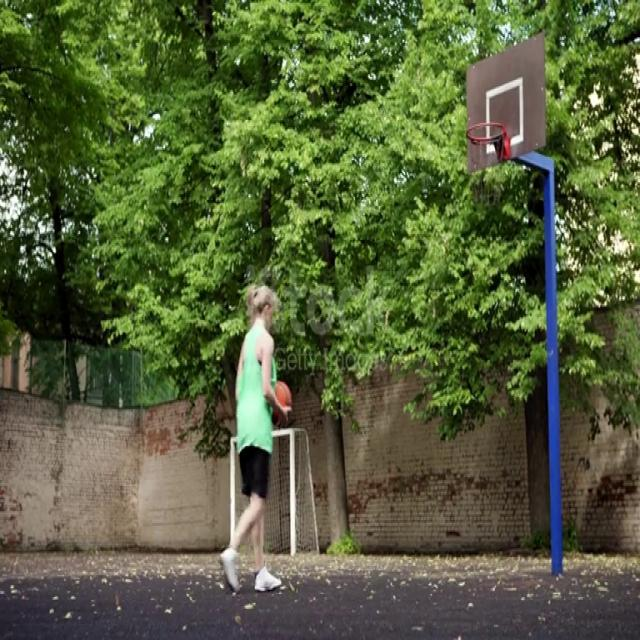ball: (272, 381, 292, 426)
